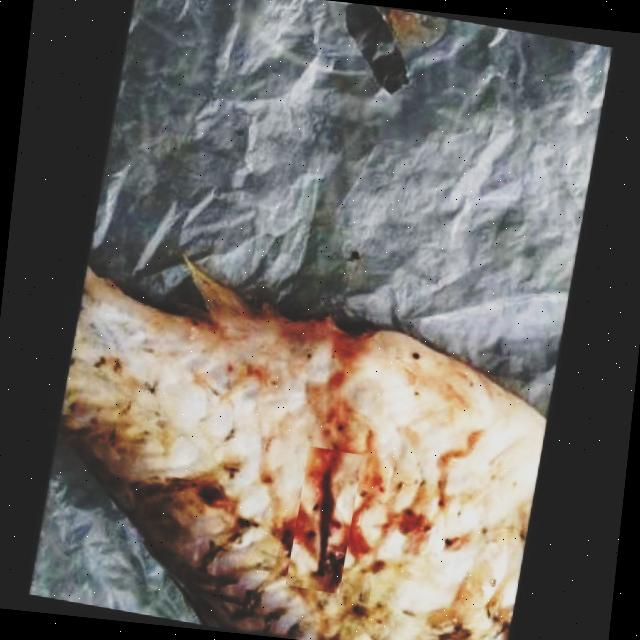Aeromonas Septicemia: (59, 260, 545, 640)
